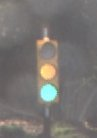Yellow: (33, 33, 63, 113)
